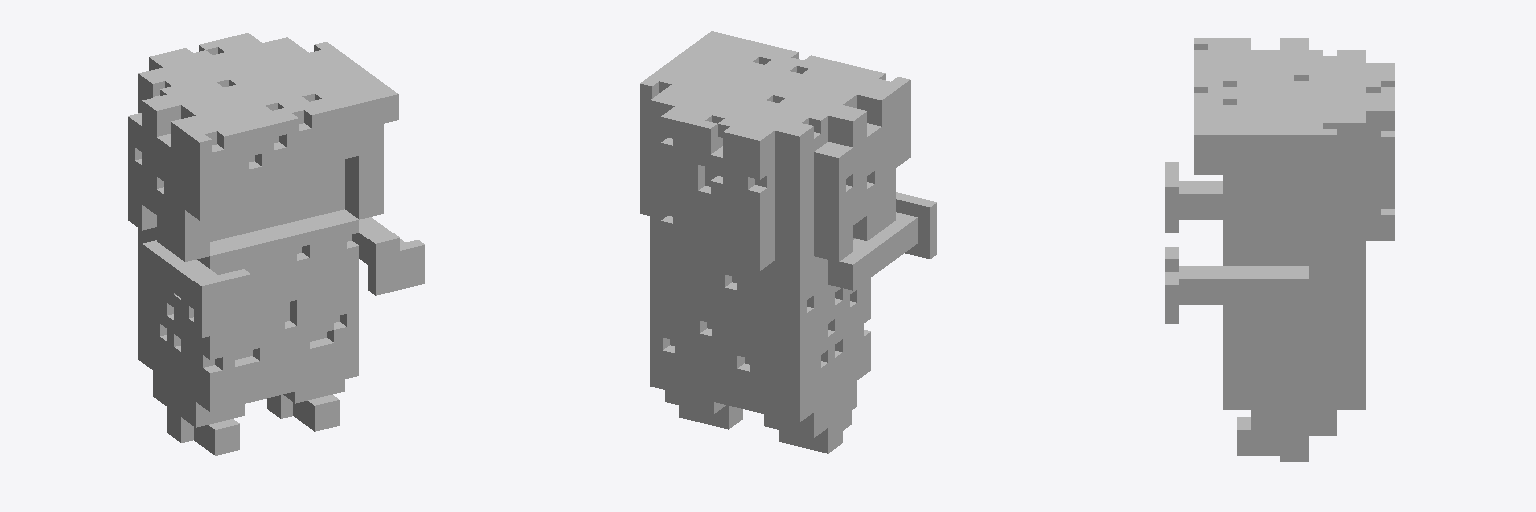
The model's file is corrupted robot.obj.
3 views of the same model, side by side, from view 1: azimuth 30°, elevation 25°; view 2: azimuth 150°, elevation 25°; view 3: azimuth 270°, elevation 25° (orthographic).
Visible parts, largest first — view 1: object 1; view 2: object 1; view 3: object 1.
Boxes of the visible parts, <box> form: object 1: <box>128,33,424,455</box>; object 1: <box>640,31,936,453</box>; object 1: <box>1165,38,1394,461</box>.
Bounding box in the file's own units: 1.8 × 2.6 × 1.6.